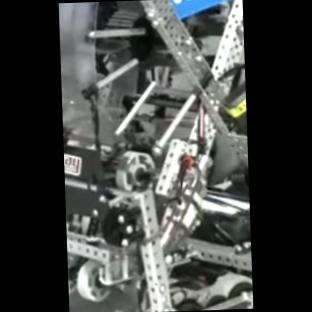Robot: (59, 0, 253, 312)
